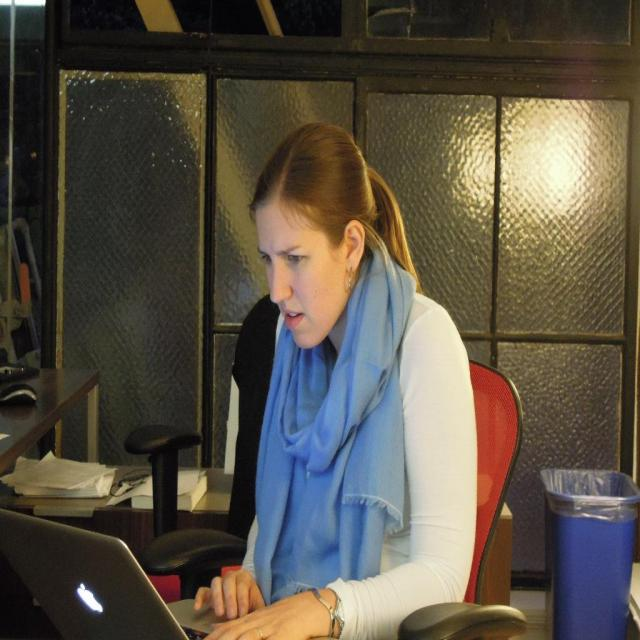chair: (468, 361, 522, 605)
desk: (0, 346, 116, 512)
laptop: (1, 508, 216, 640)
mouse: (0, 384, 38, 405)
person: (194, 119, 483, 640), (224, 294, 280, 534)
